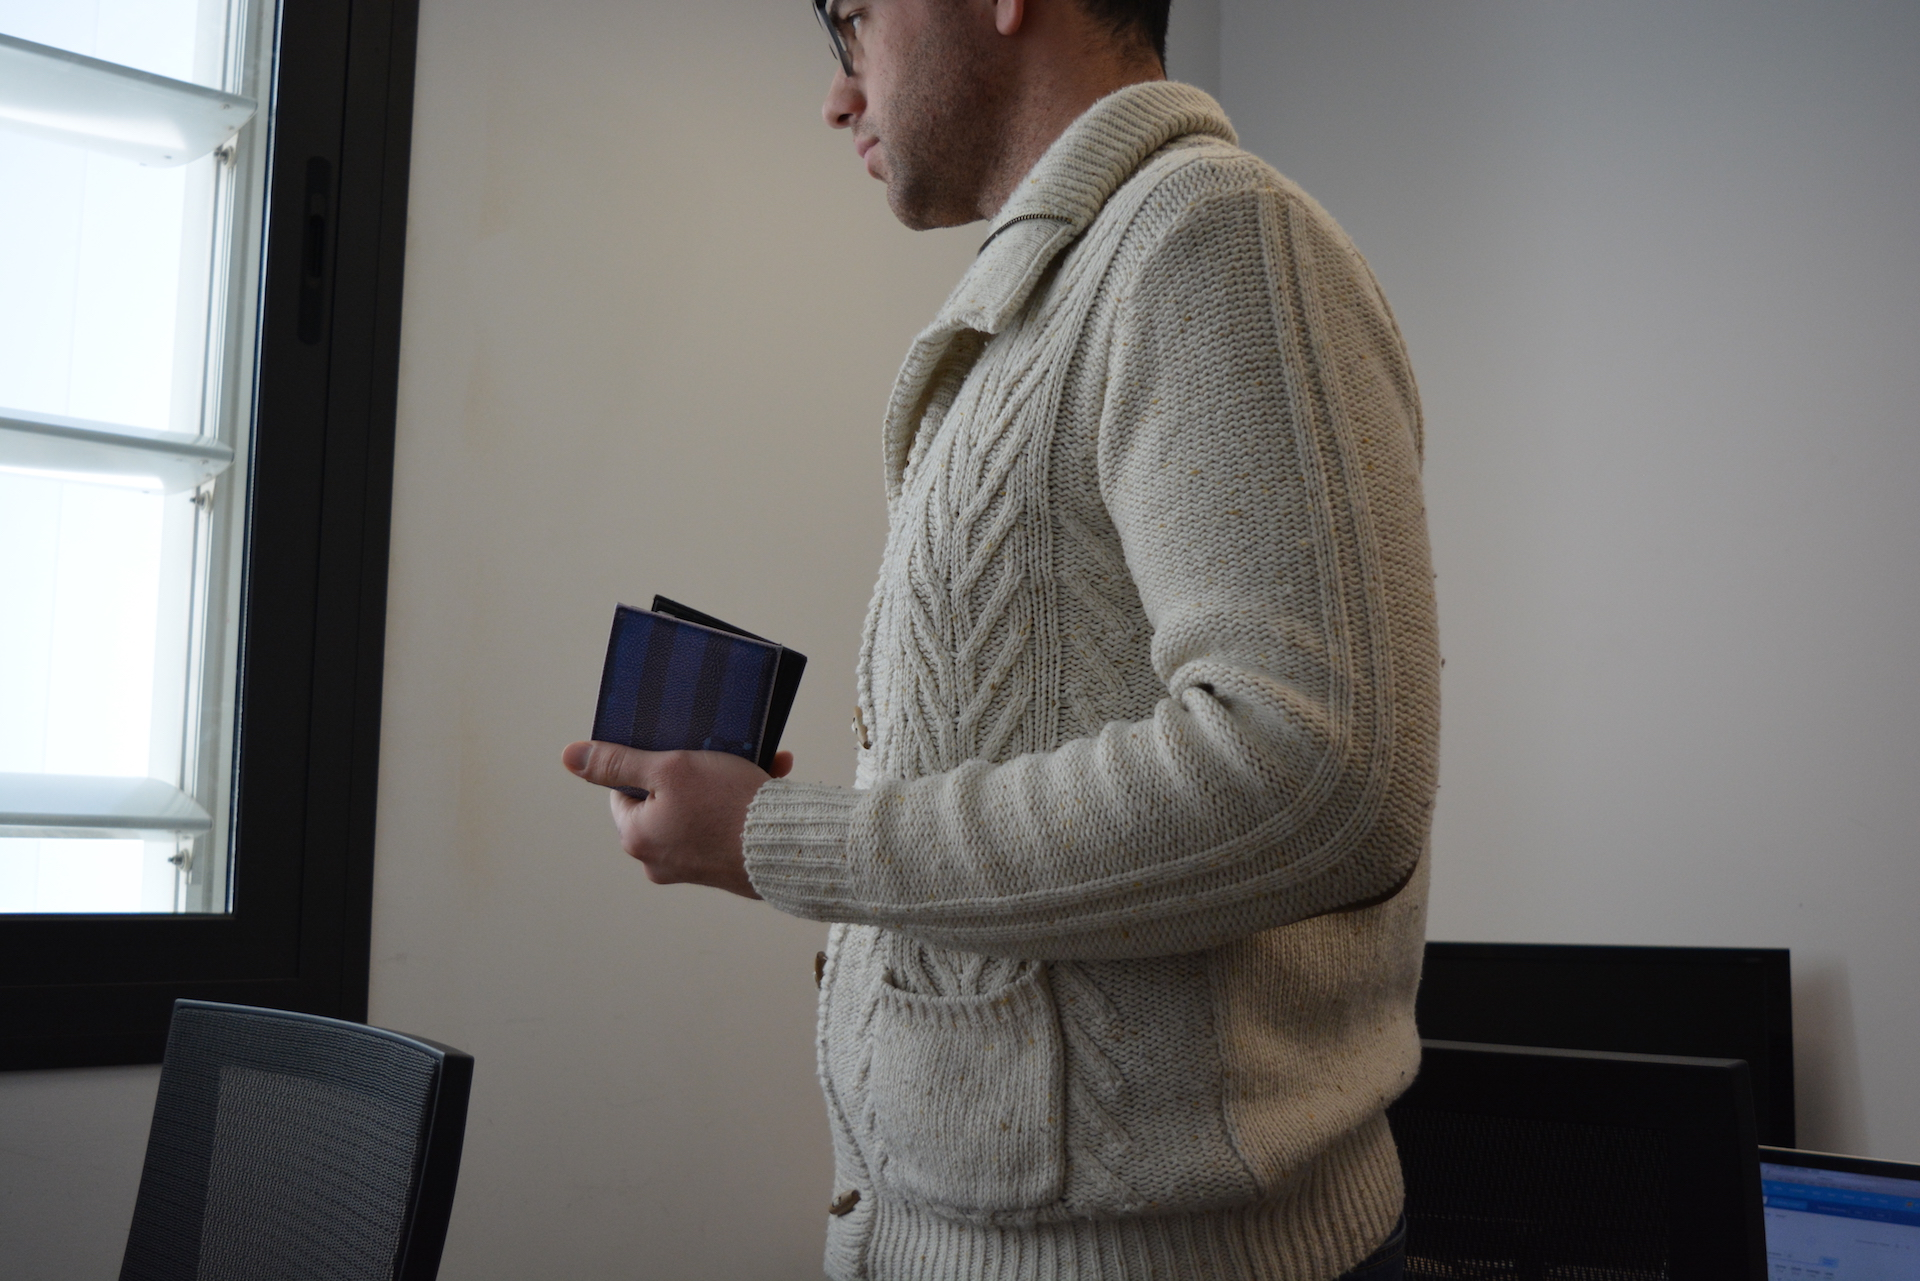monedero: (588, 592, 811, 805)
